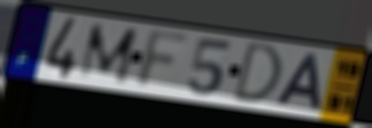4: (44, 14, 79, 82)
5: (185, 38, 236, 98)
A: (274, 51, 323, 113)
D: (230, 40, 284, 106)
F: (131, 27, 195, 92)
M: (75, 22, 141, 86)
